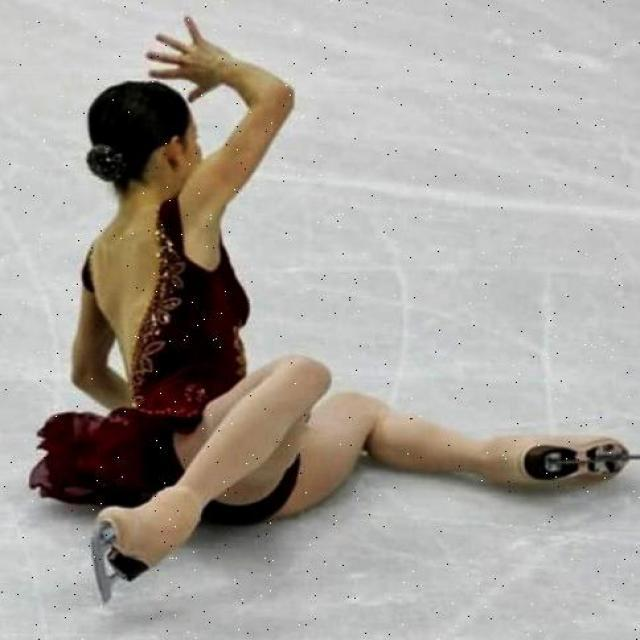fall: (69, 69, 584, 555)
